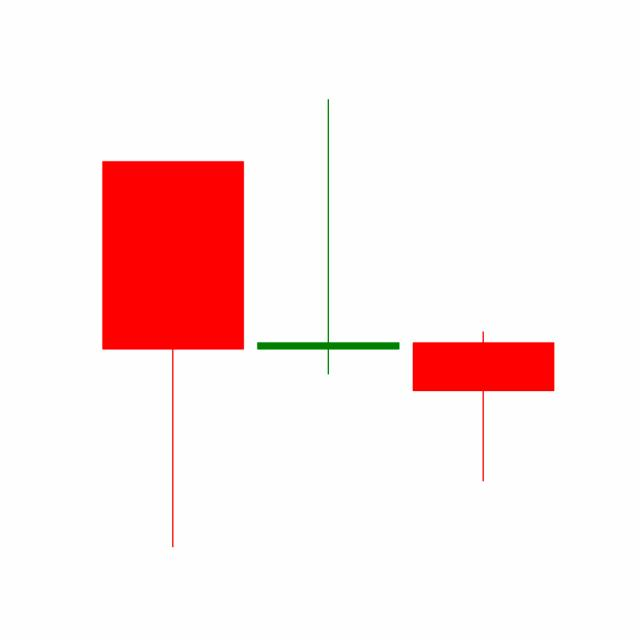Hammer: (405, 330, 561, 483)
